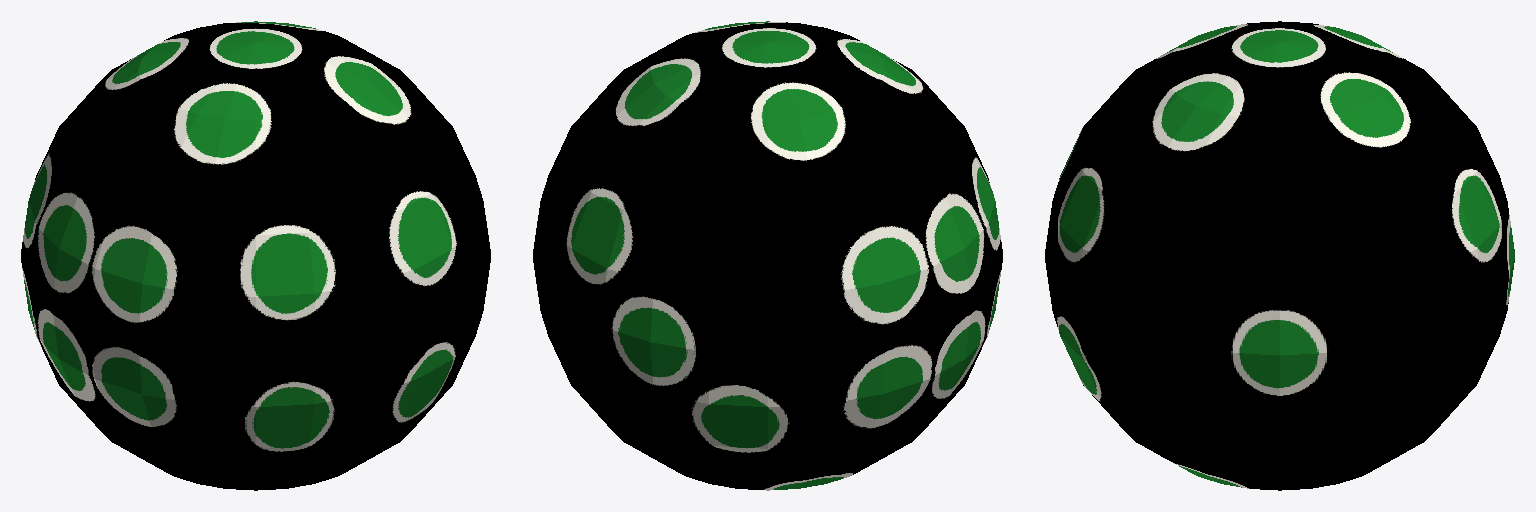
The picture shows the model from 3 angles: view 1: azimuth 30°, elevation 25°; view 2: azimuth 150°, elevation 25°; view 3: azimuth 270°, elevation 25°; orthographic projection.
Parts seen in each view (by area): view 1: Sphere_None; view 2: Sphere_None; view 3: Sphere_None.
Boxes of the visible parts, x1=… form: Sphere_None: x1=21, y1=21, x2=490, y2=490; Sphere_None: x1=533, y1=21, x2=1002, y2=490; Sphere_None: x1=1045, y1=21, x2=1514, y2=490.
Bounding box in the file's own units: 2 × 2 × 2.
1 materials, 1 textured.